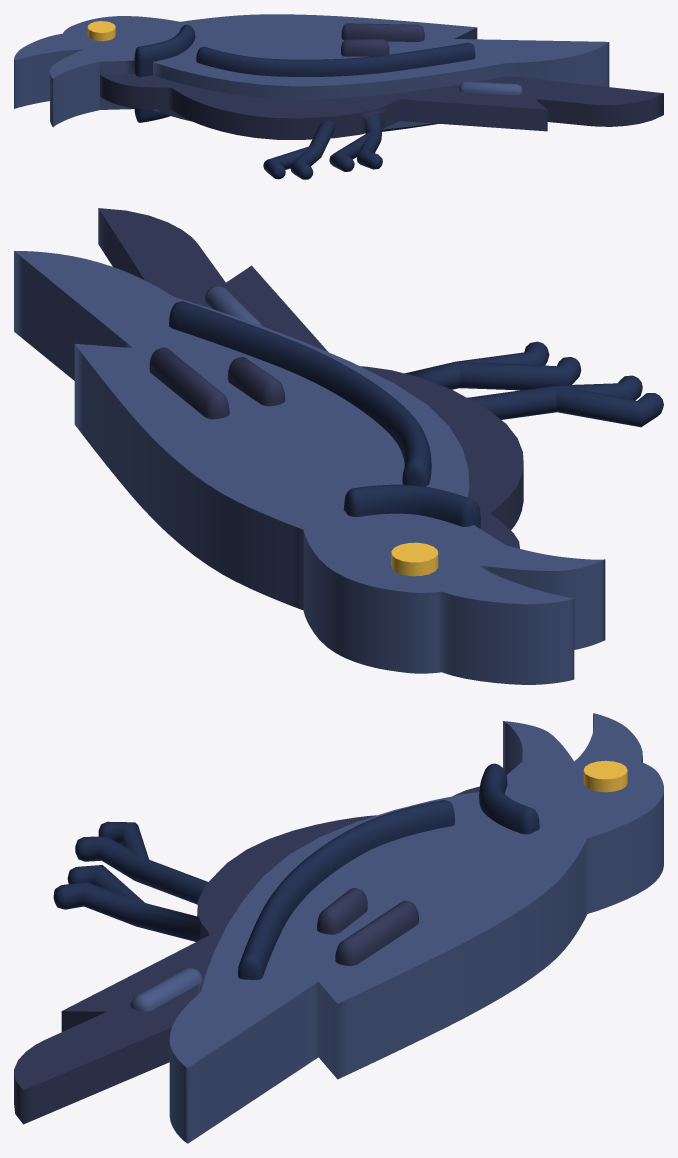
File: babochka.glb
3 views of the same model, one above another, from view 1: azimuth 30°, elevation 25°; view 2: azimuth 150°, elevation 25°; view 3: azimuth 270°, elevation 25° (orthographic). The views are drawn at different scales.
Parts seen in each view (by area): view 1: Curve.002; view 2: Curve.002; view 3: Curve.002.
Boxes of the visible parts, box(x1,y1,x2,y2) form: Curve.002: box(14, 14, 663, 179); Curve.002: box(14, 208, 663, 684); Curve.002: box(14, 713, 663, 1143).
Bounding box in the file's own units: 4.5 × 0.6929 × 3.47.
